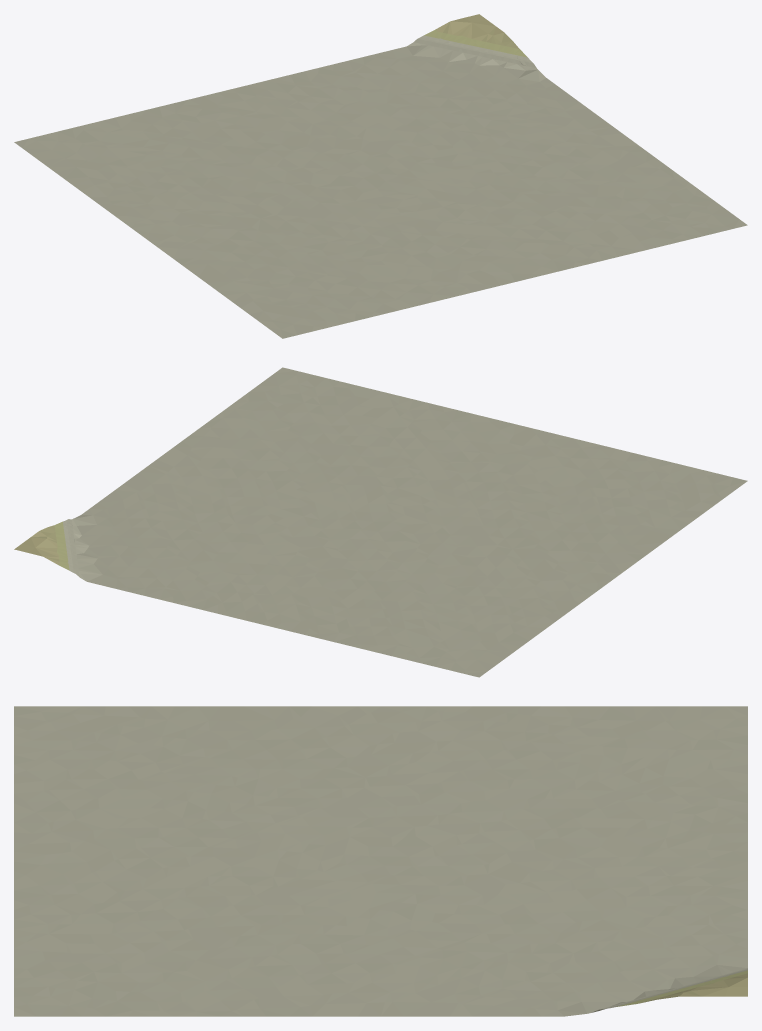
The model's file is Ground_-6_-6.glb.
The picture shows the model from 3 angles, top to bottom: view 1: azimuth 30°, elevation 25°; view 2: azimuth 150°, elevation 25°; view 3: azimuth 270°, elevation 25°; orthographic projection. The views are drawn at different scales.
Visible parts, largest first — view 1: Ground_-6_-6; view 2: Ground_-6_-6; view 3: Ground_-6_-6.
Boxes of the visible parts, x1,y1,x2,y2 form: Ground_-6_-6: [14, 14, 747, 338]; Ground_-6_-6: [14, 367, 747, 677]; Ground_-6_-6: [14, 706, 747, 1016].
Bounding box in the file's own units: 768 × 23.04 × 768.
